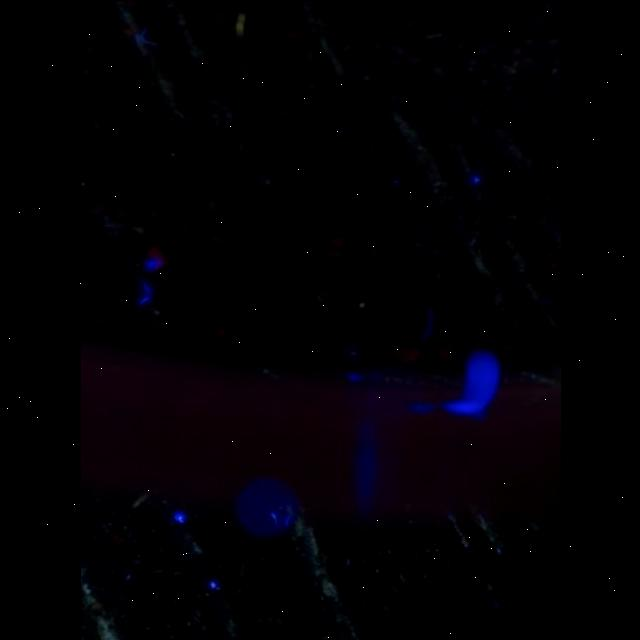microbeads: (233, 9, 244, 37)
